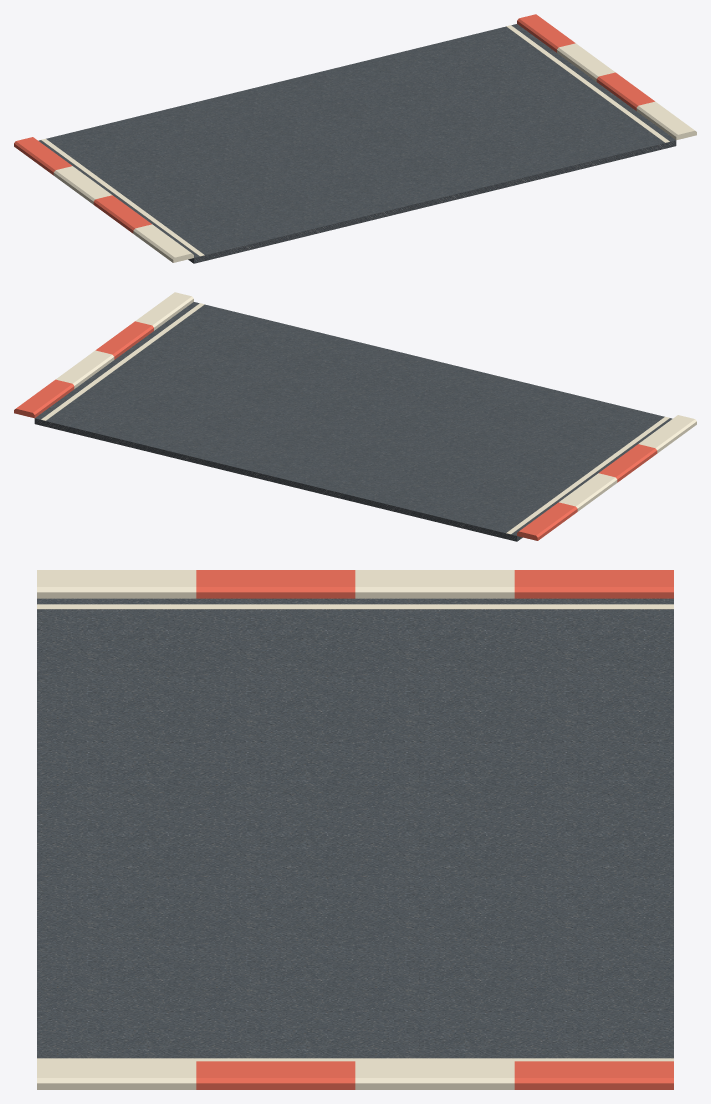
The model's file is road-straight-14x8.glb.
3 views of the same model, one above another, from view 1: azimuth 30°, elevation 25°; view 2: azimuth 150°, elevation 25°; view 3: azimuth 270°, elevation 25° (orthographic). The views are drawn at different scales.
Parts seen in each view (by area): view 1: road-straight-14x8; view 2: road-straight-14x8; view 3: road-straight-14x8.
Boxes of the visible parts, left/top/right/bottom form: road-straight-14x8: left=14, top=14, right=696, bottom=263; road-straight-14x8: left=14, top=292, right=696, bottom=541; road-straight-14x8: left=37, top=570, right=673, bottom=1089.
Size of the model in its own units: 15.2 by 0.3 by 8.
Materials: 3 (1 with a texture image).
